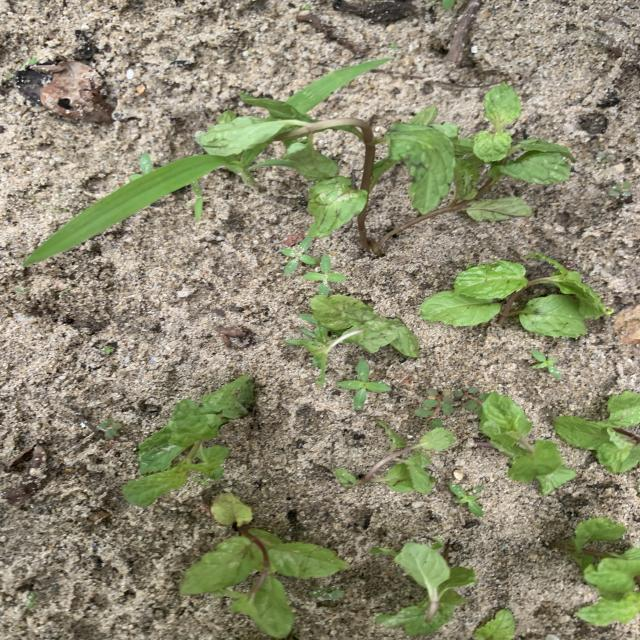crop: (374, 84, 571, 246), (197, 95, 375, 249), (181, 524, 347, 636), (421, 254, 612, 337), (132, 376, 253, 505), (287, 301, 419, 384), (479, 392, 575, 495), (550, 517, 639, 625), (375, 540, 475, 634), (334, 421, 454, 492), (554, 392, 639, 471), (476, 610, 514, 639)
weed: (23, 155, 249, 266), (285, 58, 390, 114), (338, 361, 390, 408), (303, 254, 347, 295), (416, 390, 459, 418), (283, 242, 316, 274), (450, 484, 483, 515), (531, 350, 560, 378), (454, 387, 486, 410), (191, 180, 203, 222), (98, 419, 122, 437), (310, 587, 343, 599), (610, 182, 631, 196), (423, 418, 443, 427), (103, 346, 114, 354)
